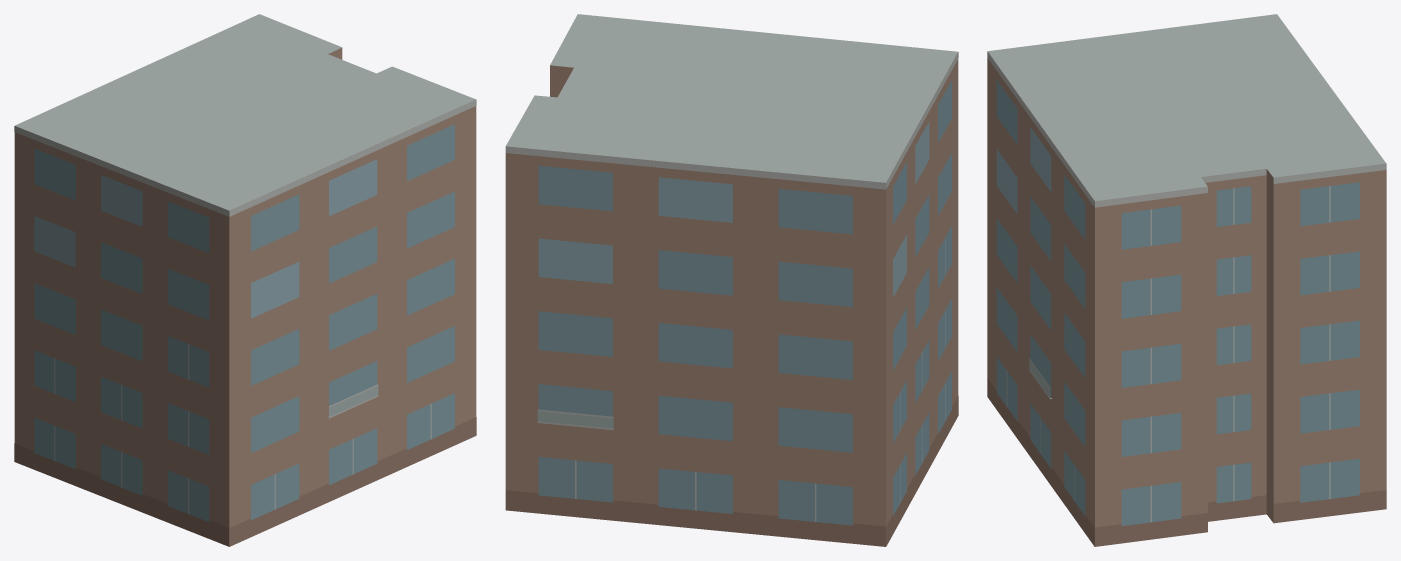
File: survey-upis-32837728.glb
3 views of the same model, side by side, from view 1: azimuth 30°, elevation 25°; view 2: azimuth 150°, elevation 25°; view 3: azimuth 270°, elevation 25° (orthographic). The views are drawn at different scales.
Visible parts, largest first — view 1: survey-upis-32837728.tmp; view 2: survey-upis-32837728.tmp; view 3: survey-upis-32837728.tmp.
Boxes of the visible parts, x1,y1,x2,y2 form: survey-upis-32837728.tmp: (14, 14, 476, 546); survey-upis-32837728.tmp: (505, 14, 958, 546); survey-upis-32837728.tmp: (987, 14, 1386, 546).
Size of the model in its own units: 15.47 by 13.3 by 13.93.
